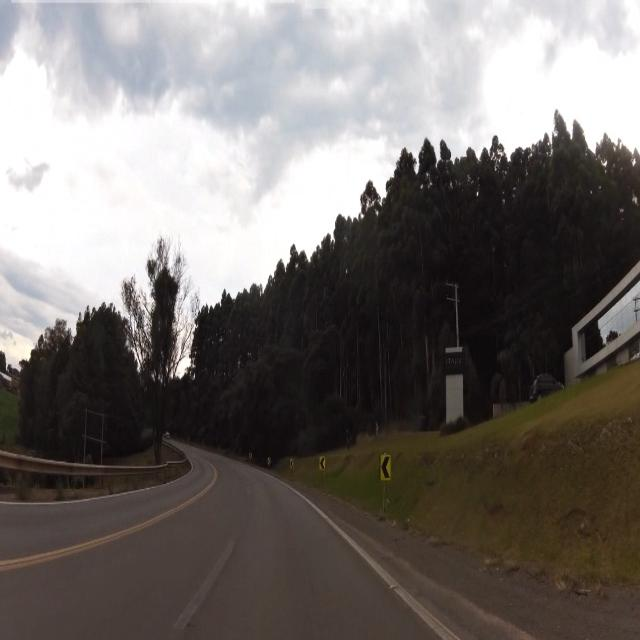Del: (378, 452, 395, 483)
